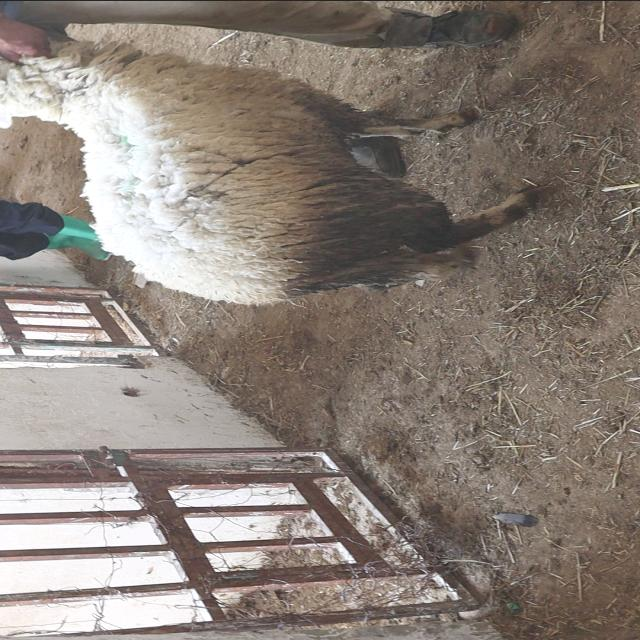Score_4: (0, 41, 536, 304)
